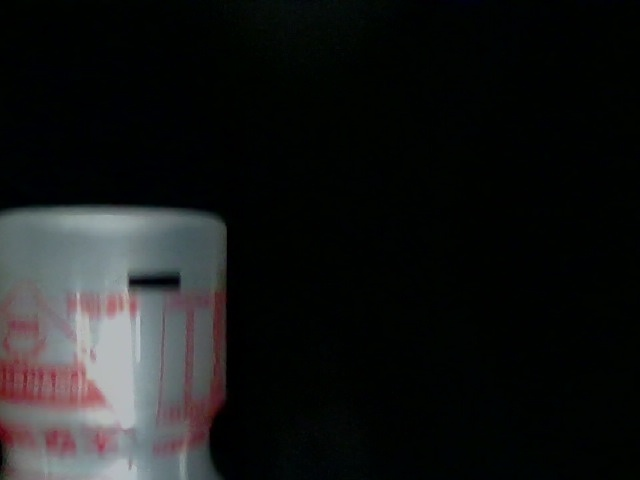CYLJ: (385, 80, 494, 195)
